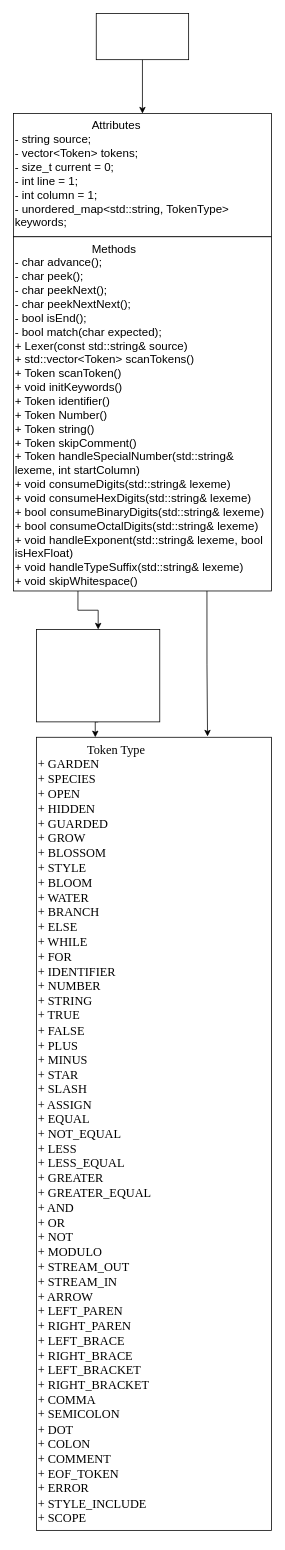
This 285x1550 diagram has some shape labels left out. Here are the shapes that lost their labels. From the top down, the box of each, then its label:
(95, 13, 189, 60): Lexer
(36, 629, 160, 722): Token + TokenType type + std::string lexeme + int line + int column
